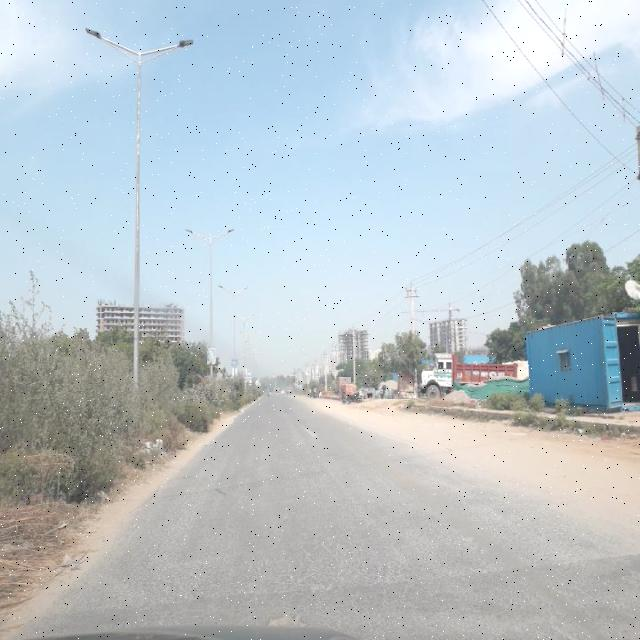D20: (90, 509, 530, 602)
D40: (264, 604, 317, 631)
